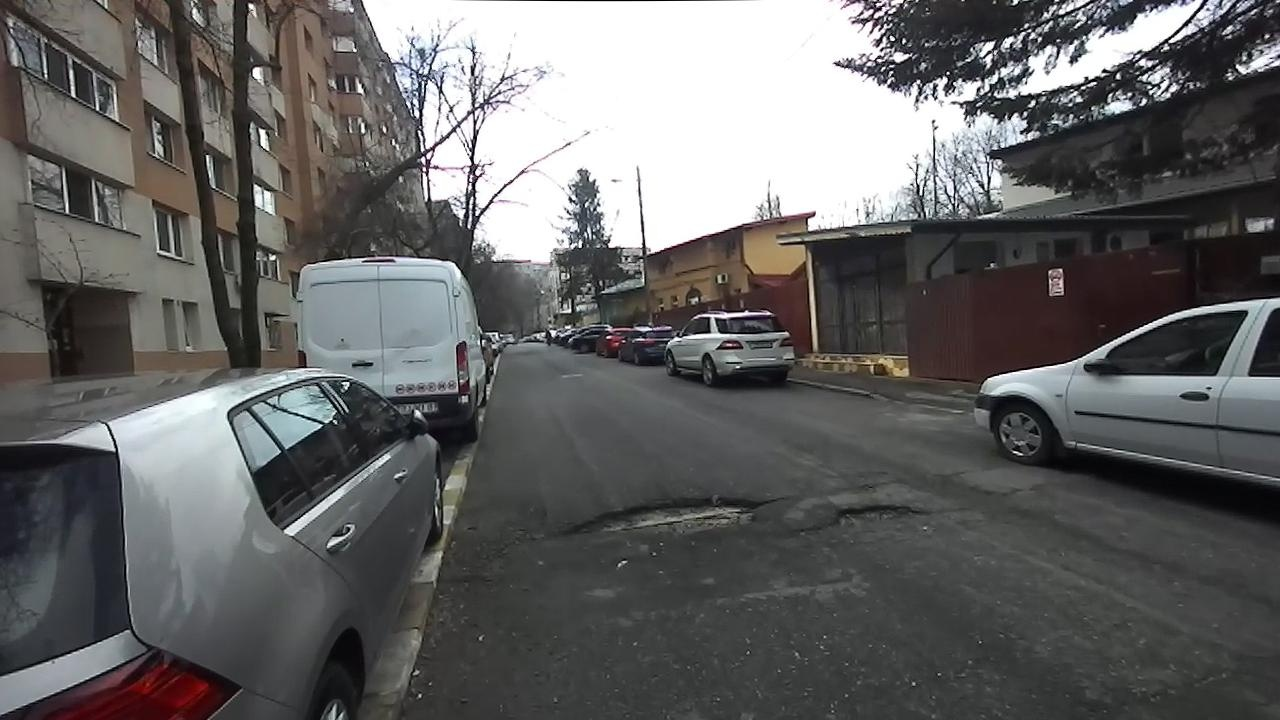pothole: (537, 491, 786, 547), (796, 499, 936, 536)
